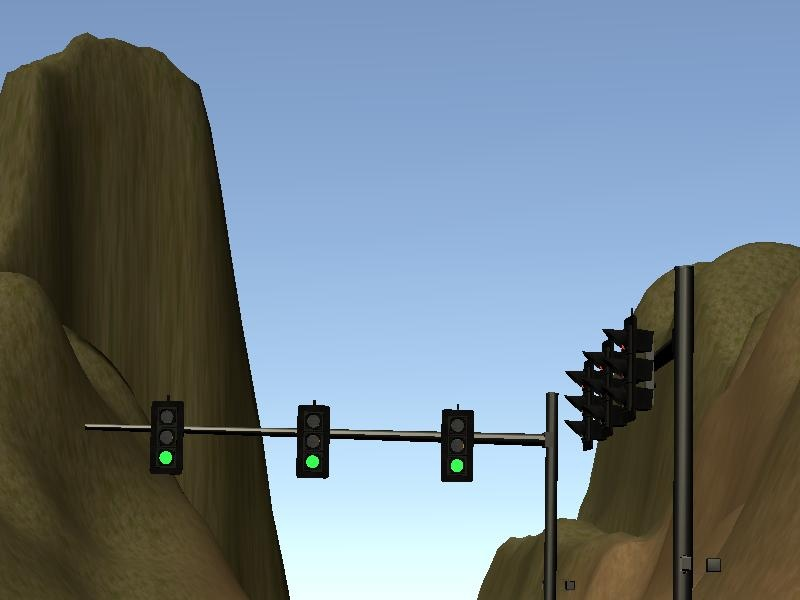green: (149, 400, 184, 474), (296, 403, 330, 478), (442, 411, 473, 482)
